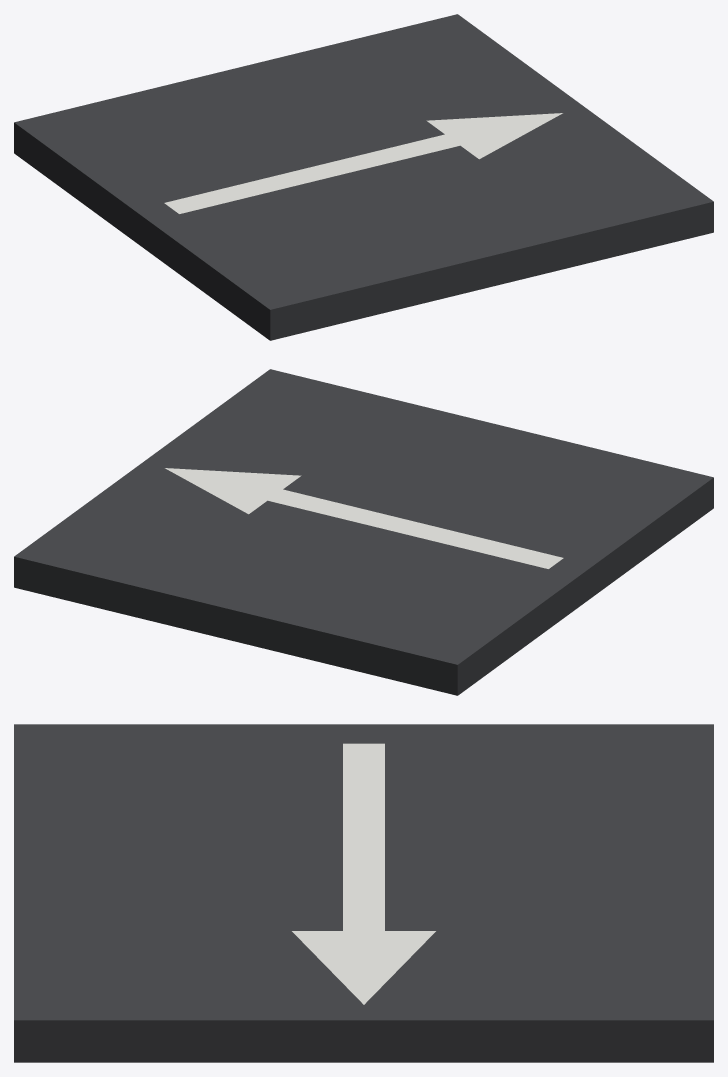
The model's file is SC_Gnd_Road_Arrow.gltf.
The picture shows the model from 3 angles, top to bottom: view 1: azimuth 30°, elevation 25°; view 2: azimuth 150°, elevation 25°; view 3: azimuth 270°, elevation 25°; orthographic projection. The views are drawn at different scales.
Parts seen in each view (by area): view 1: SC_Gnd_Road_Arrow; view 2: SC_Gnd_Road_Arrow; view 3: SC_Gnd_Road_Arrow.
Boxes of the visible parts, x1,y1,x2,y2 form: SC_Gnd_Road_Arrow: (14, 14, 713, 340); SC_Gnd_Road_Arrow: (14, 369, 713, 695); SC_Gnd_Road_Arrow: (14, 724, 713, 1062).
Bounding box in the file's own units: 3 × 0.202 × 3.
Materials: 1 (1 with a texture image).
